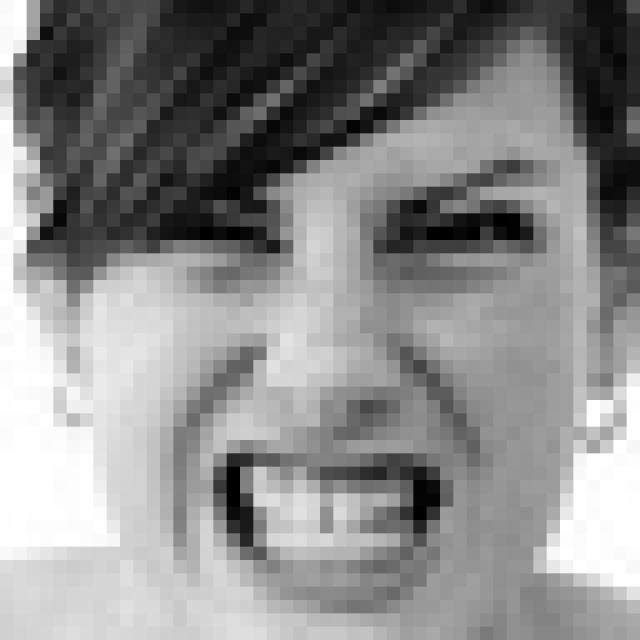angry: (132, 149, 555, 613)
